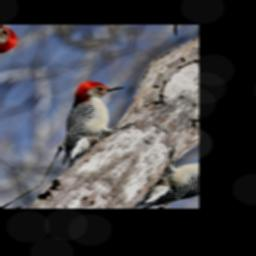Woodpecker: (16, 66, 162, 183)
